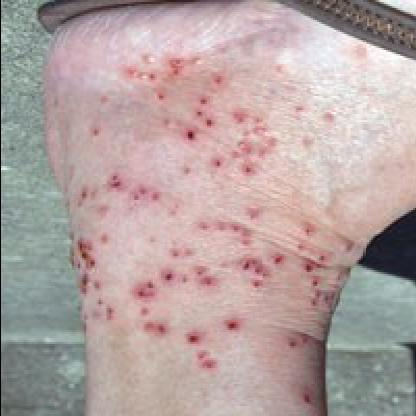Fire ant: (116, 42, 220, 142), (70, 168, 174, 224), (291, 220, 345, 314), (66, 228, 115, 324), (189, 194, 262, 246), (226, 102, 274, 180), (131, 266, 173, 334), (287, 96, 335, 146), (237, 250, 283, 290), (183, 326, 212, 380), (85, 86, 108, 144), (176, 152, 218, 178), (176, 264, 216, 288), (278, 326, 312, 352), (219, 310, 242, 334), (291, 384, 312, 408), (348, 34, 366, 58), (169, 242, 187, 258), (271, 60, 282, 76)
